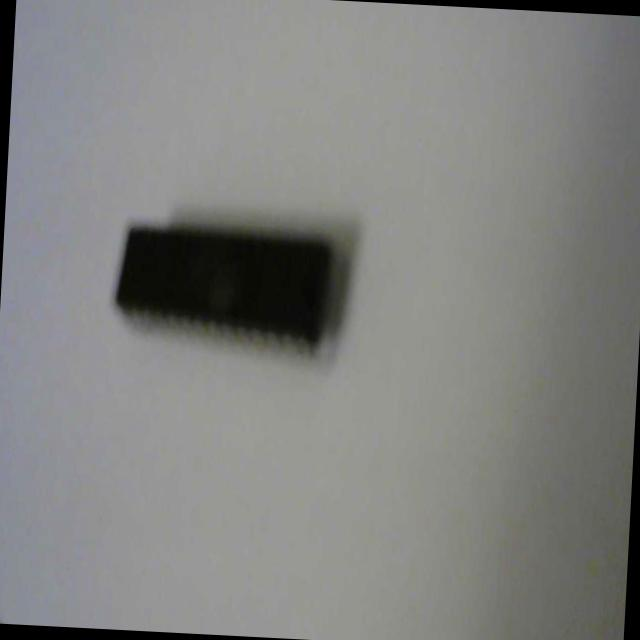atmega: (108, 202, 354, 367)
